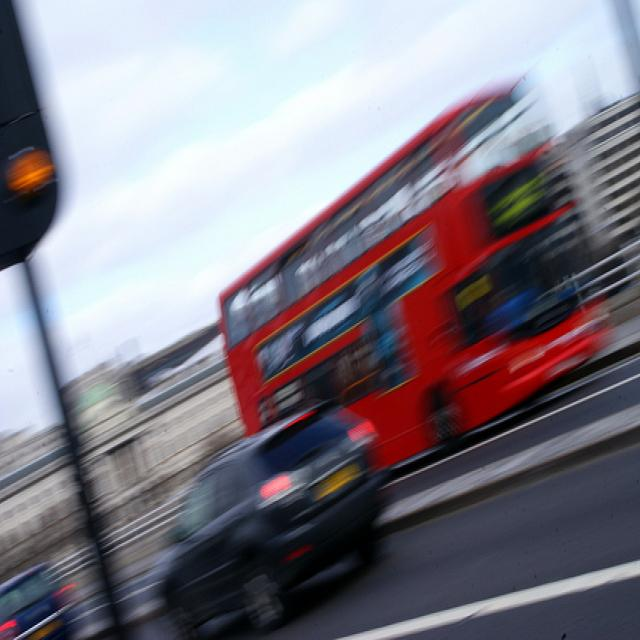Vehicle: (217, 77, 619, 473), (154, 407, 387, 632), (0, 560, 82, 631)
